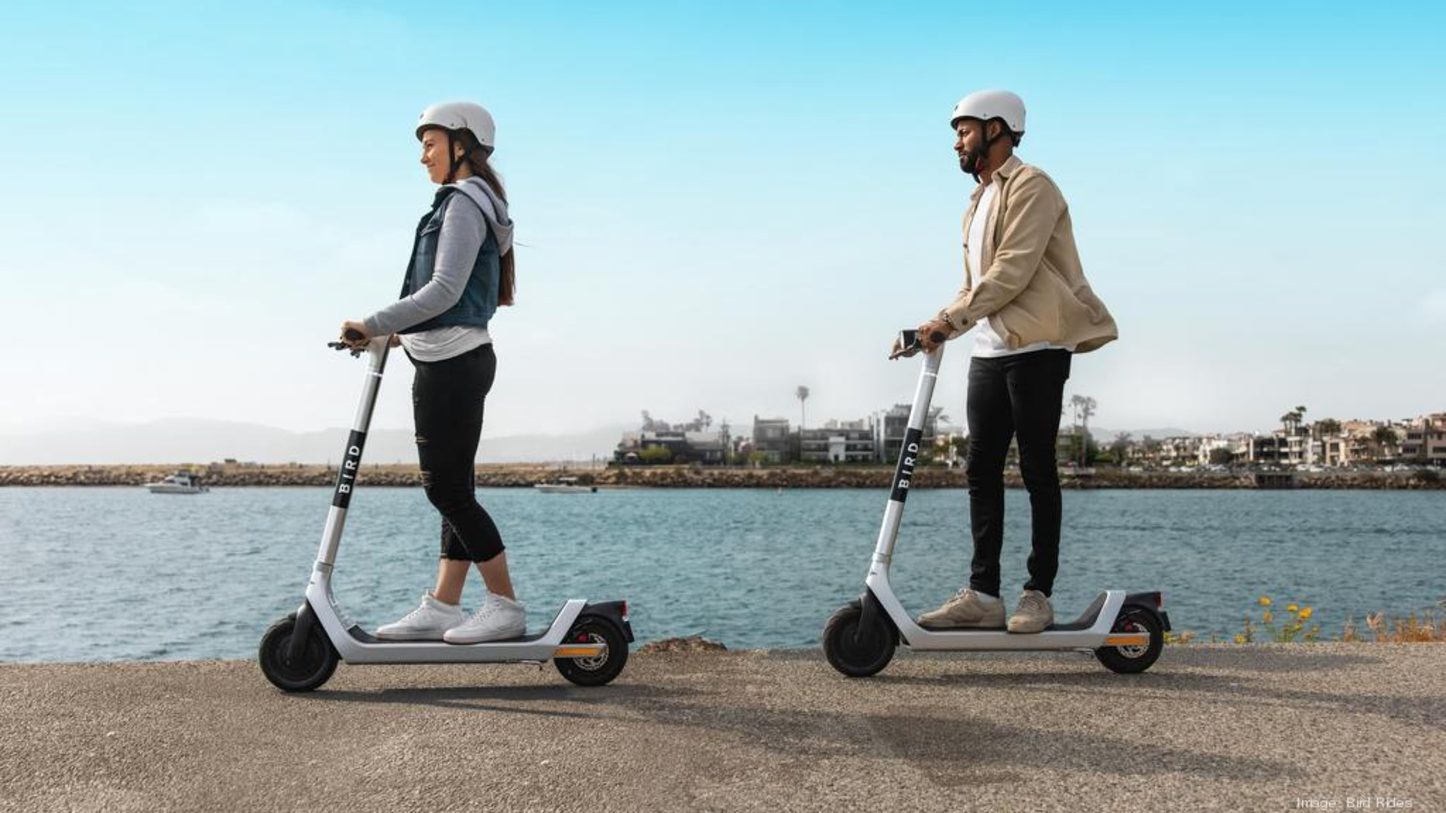helmet: (403, 98, 497, 190), (949, 90, 1028, 182)
human: (303, 94, 512, 647), (887, 94, 1062, 622)
kickboard: (811, 590, 1181, 678), (262, 614, 635, 694)
